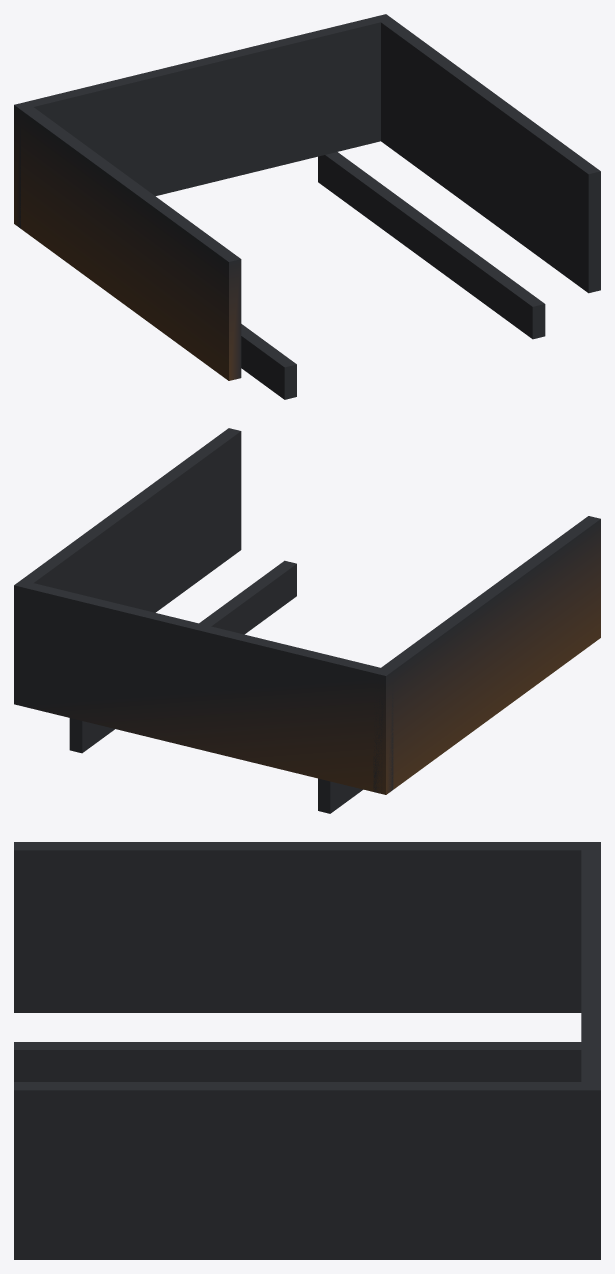
File: sg_lift_platform_lod1.glb
3 renders of one model, top to bottom at view 1: azimuth 30°, elevation 25°; view 2: azimuth 150°, elevation 25°; view 3: azimuth 270°, elevation 25°, orthographic. The views are drawn at different scales.
Parts seen in each view (by area): view 1: geometry_0; view 2: geometry_0; view 3: geometry_0.
Part boxes in pixels (x1,y1,x2,y2): geometry_0: (14,14,600,399); geometry_0: (14,428,600,813); geometry_0: (14,842,600,1259).
Bounding box in the file's own units: 3.6 × 1.4 × 3.6.
